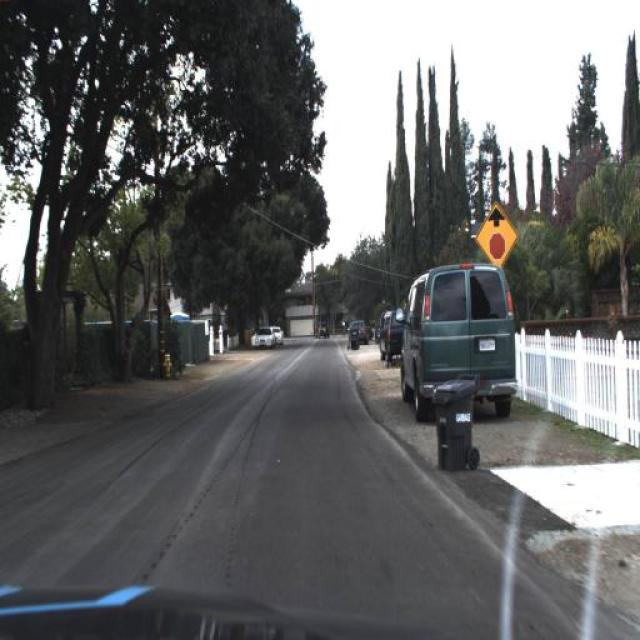car: (393, 262, 523, 419), (377, 304, 408, 368), (348, 316, 372, 346), (251, 328, 277, 350), (313, 318, 332, 342), (273, 324, 286, 347)
